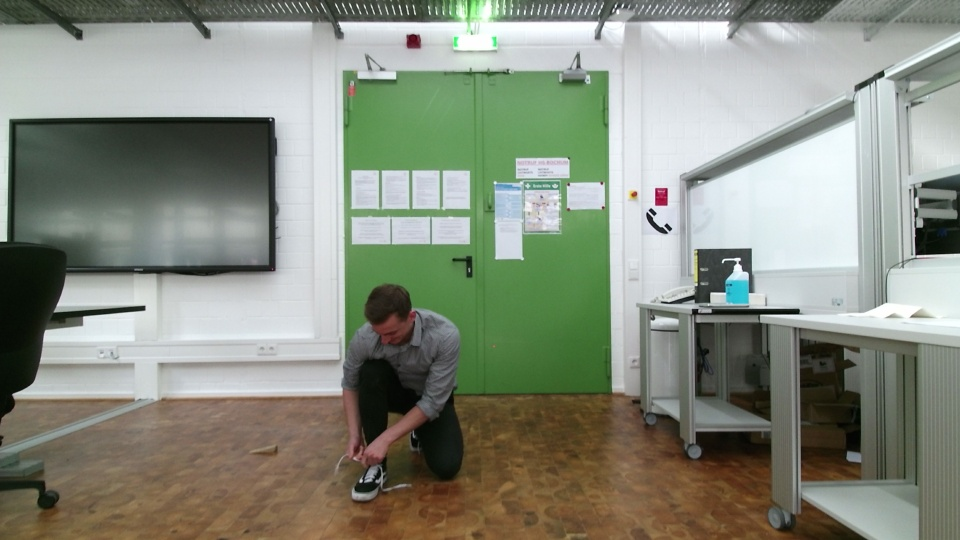Person: (338, 270, 472, 508)
